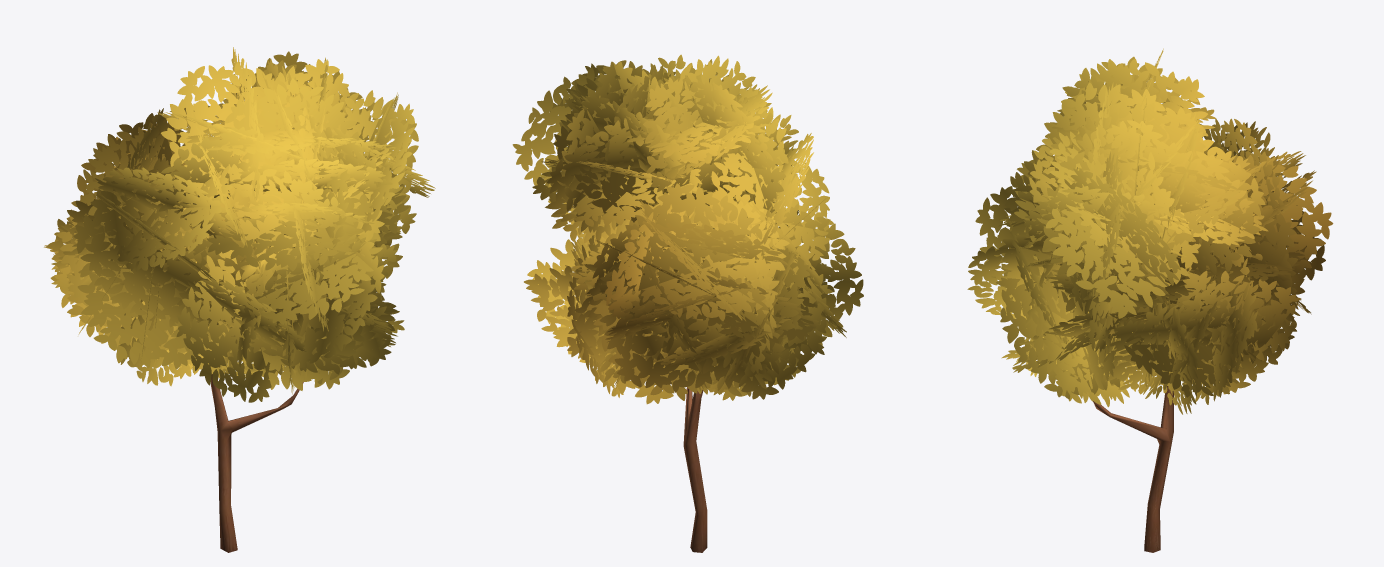
The model's file is tree03-33cm1st3.glb.
The picture shows the model from 3 angles, left to right: view 1: azimuth 30°, elevation 25°; view 2: azimuth 150°, elevation 25°; view 3: azimuth 270°, elevation 25°; orthographic projection. The views are drawn at different scales.
Parts seen in each view (by area): view 1: tree03; view 2: tree03; view 3: tree03.
Part boxes in pixels (bbox=[...]): tree03: bbox=[44, 47, 435, 552]; tree03: bbox=[512, 54, 863, 552]; tree03: bbox=[967, 48, 1333, 552].
Bounding box in the file's own units: 6.16 × 7.85 × 6.02.
Materials: 2 (2 with a texture image).
